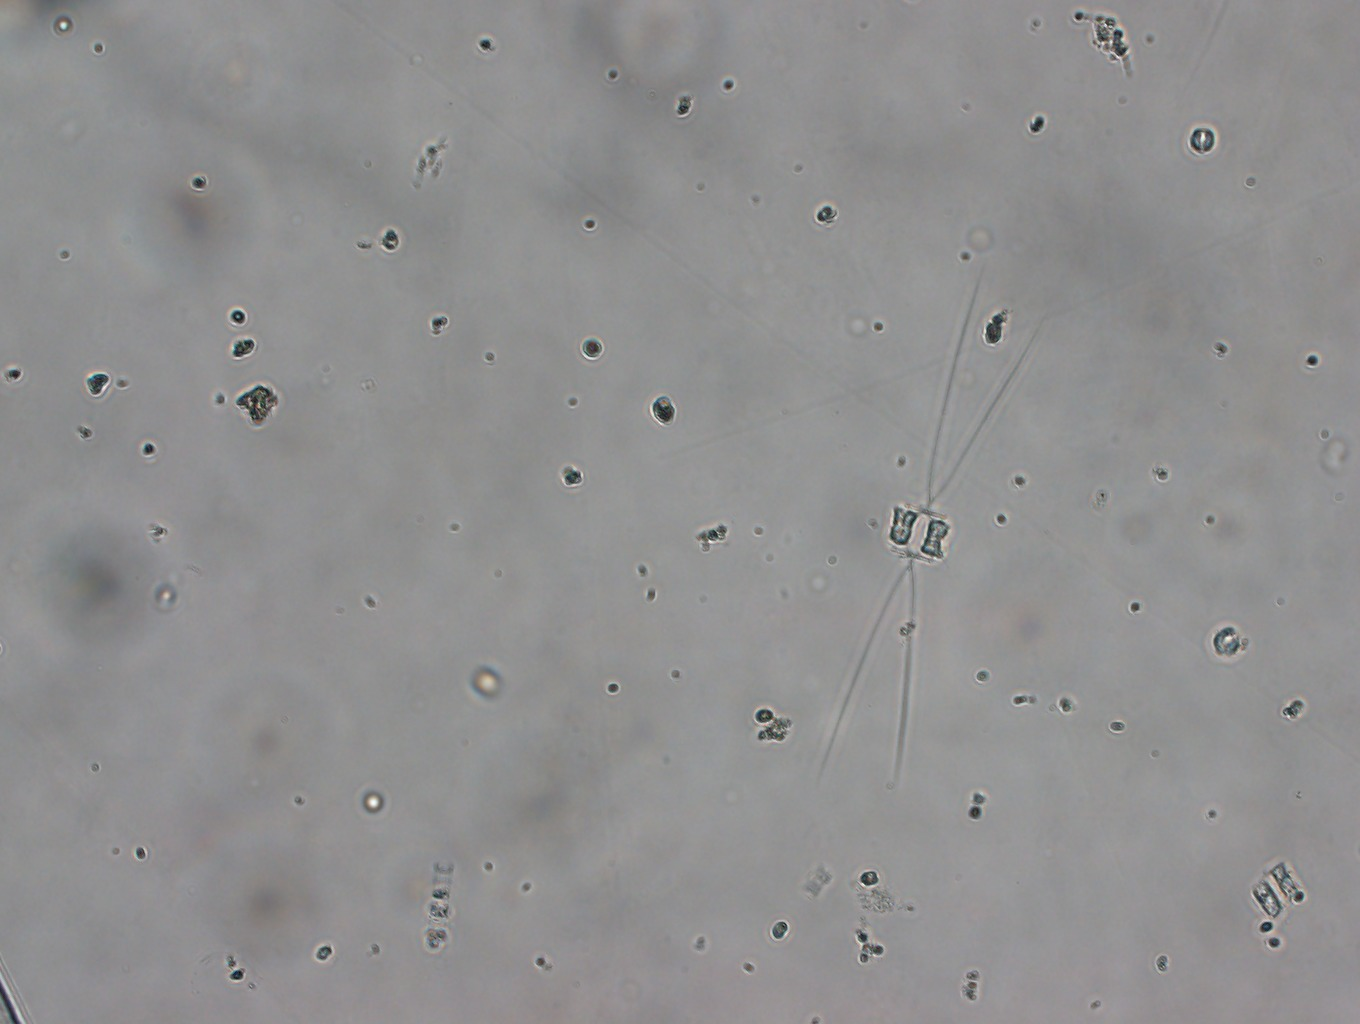chaetoceros: (807, 248, 1044, 787)
